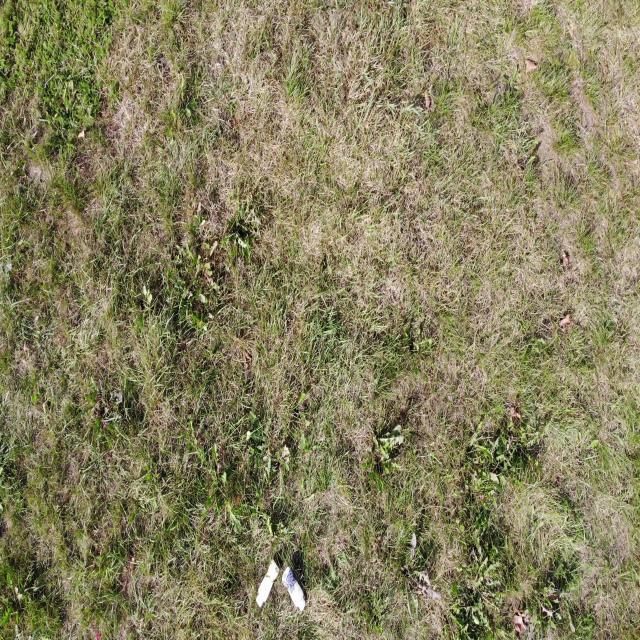rubbish: (254, 561, 279, 608), (282, 568, 305, 612)
